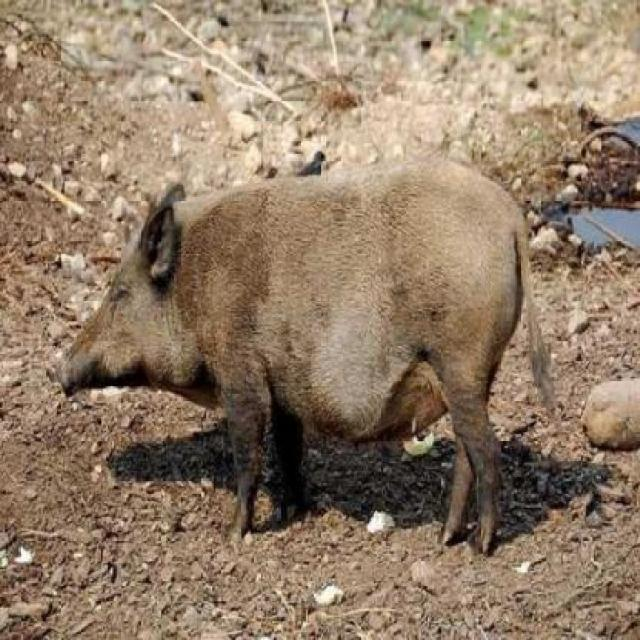pig: (9, 156, 566, 548)
